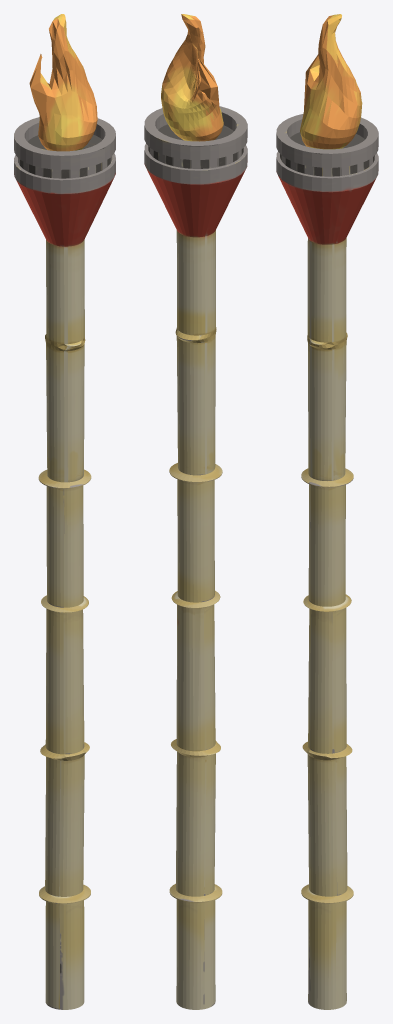
Rendered from firelamp.obj.
3 renders of one model, left to right at view 1: azimuth 30°, elevation 25°; view 2: azimuth 150°, elevation 25°; view 3: azimuth 330°, elevation 25°, orthographic.
Parts seen in each view (by area): view 1: Cylinder; view 2: Cylinder; view 3: Cylinder.
Boxes of the visible parts, x1,y1,x2,y2 form: Cylinder: (14, 14, 115, 1009); Cylinder: (144, 14, 247, 1009); Cylinder: (276, 14, 378, 1009).
Bounding box in the file's own units: 4.28 × 44.75 × 4.08.
